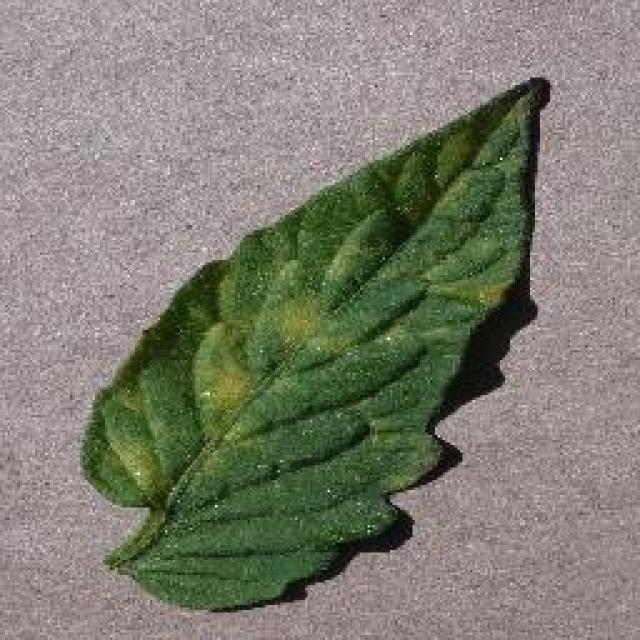Tomato___Leaf_Mold: (82, 80, 542, 605)
